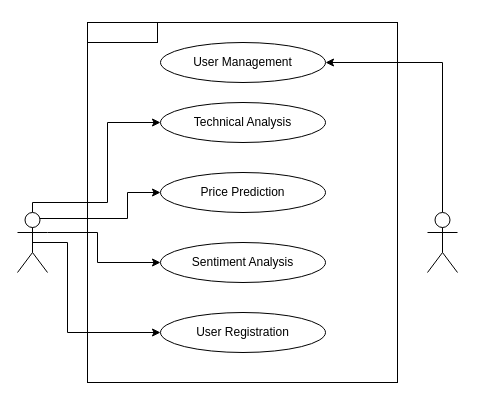
Image size: 477x400. Some labels were removed from this diagram. Here are the shapes that lost their labels. From the top down, the centre of each, then its label:
At (122,32): "Use Cases".
At (32,242): "User".
At (442,242): "Admin".
